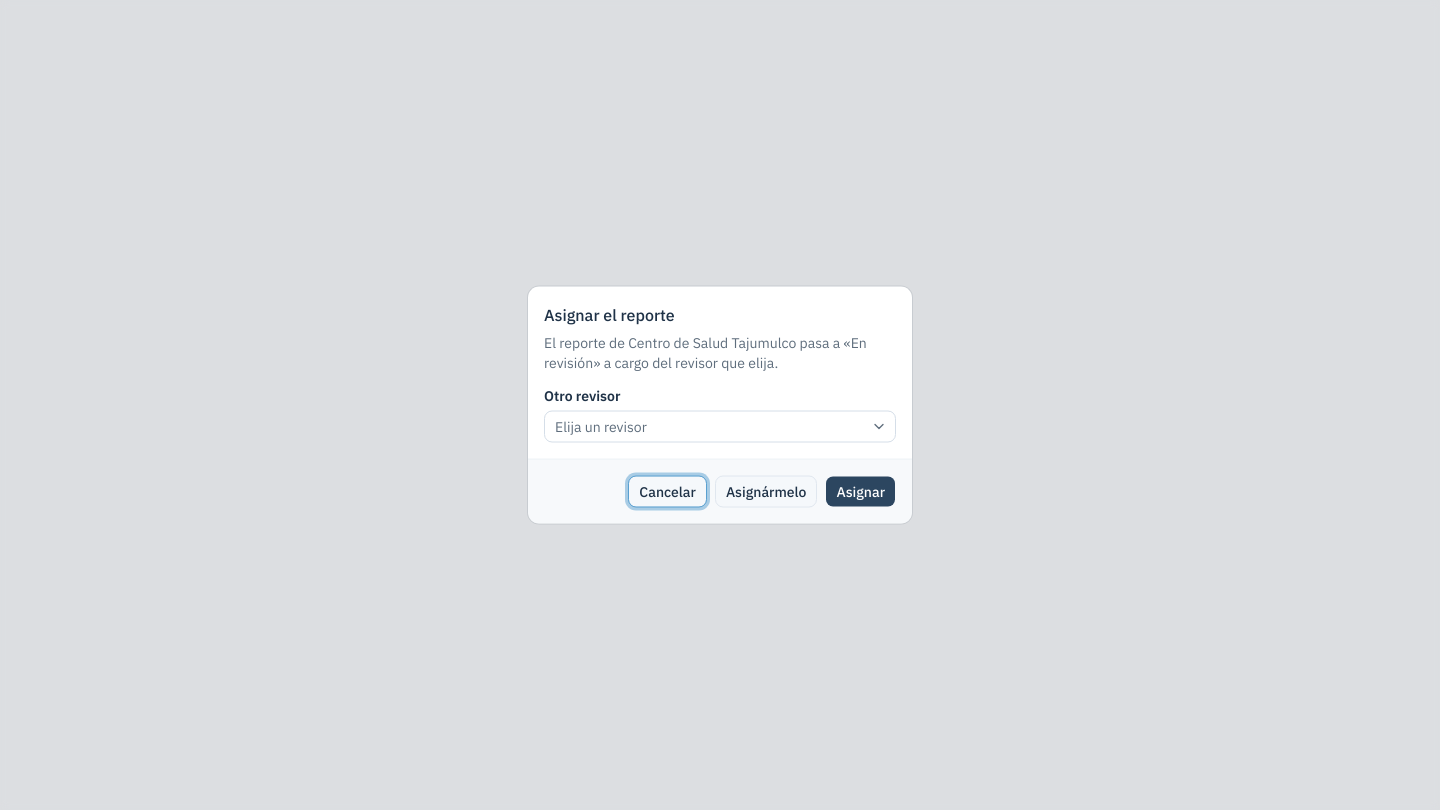
un error que no es 409 se muestra sin «Recargar»
Click the button "Asignármelo": [766, 492] box x1=715 y1=476 x2=817 y2=508
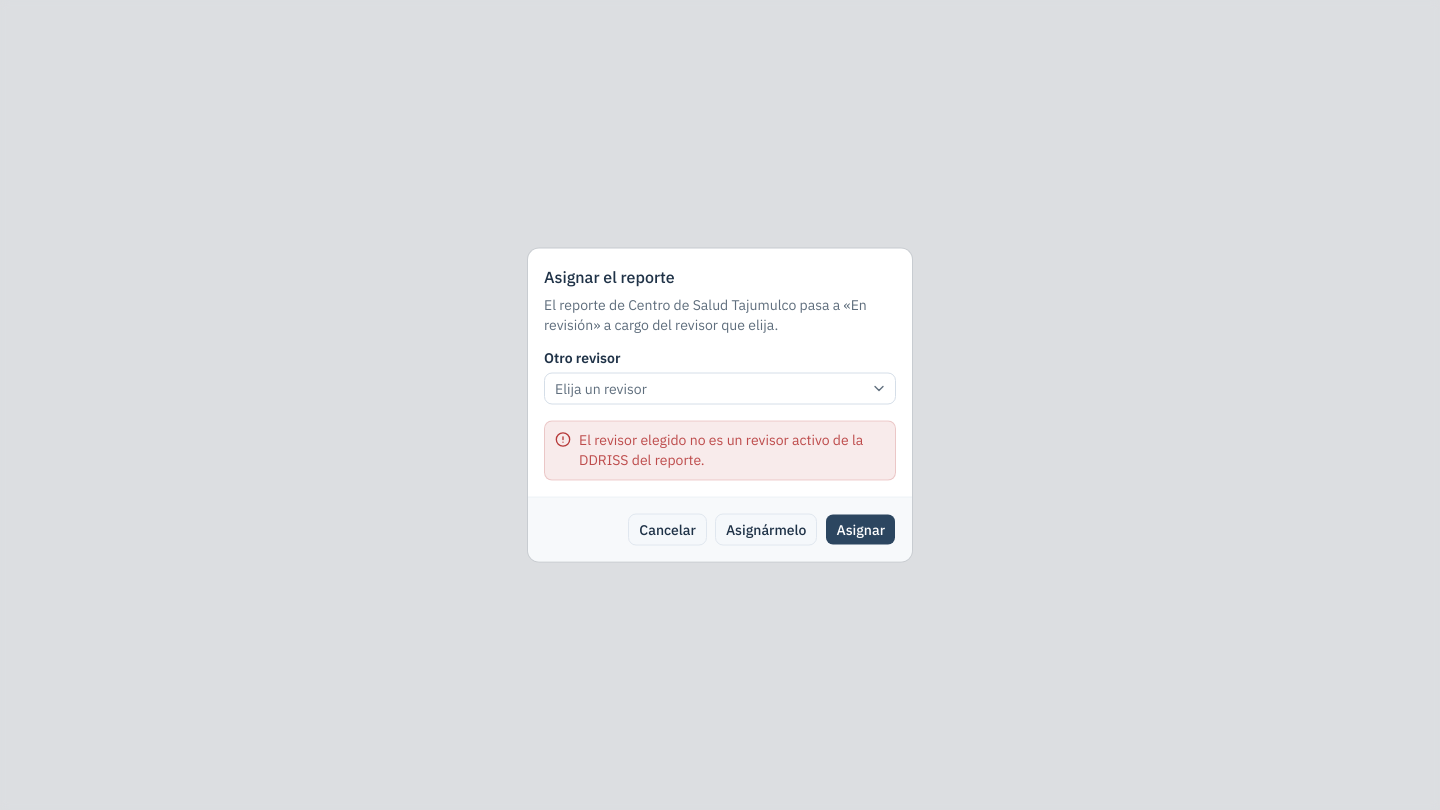
expect the text "El revisor elegido no es un revisor activo de la DDRISS del reporte." is shown: met, box x1=579 y1=430 x2=885 y2=470
